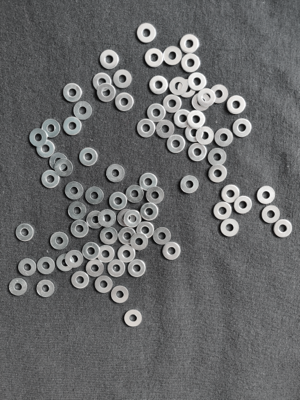circle: (61, 81, 82, 104), (137, 21, 157, 44), (162, 45, 183, 66), (114, 68, 134, 90), (9, 276, 29, 297), (64, 180, 85, 200), (106, 163, 126, 184), (73, 100, 93, 121), (179, 175, 200, 195), (49, 231, 69, 251), (196, 126, 216, 146), (233, 119, 253, 139), (256, 185, 276, 205), (274, 219, 294, 239), (15, 222, 34, 243), (99, 226, 120, 245), (153, 226, 172, 247), (79, 147, 98, 168), (97, 83, 116, 104), (99, 50, 120, 69), (145, 47, 164, 68), (55, 253, 74, 273), (67, 202, 87, 221), (93, 275, 113, 294), (123, 310, 143, 329), (41, 170, 60, 190), (41, 119, 61, 138), (115, 93, 134, 113), (166, 135, 185, 155), (174, 108, 193, 128), (185, 123, 204, 143), (188, 143, 207, 163), (188, 72, 208, 91), (215, 128, 234, 148), (208, 147, 227, 167), (212, 202, 232, 221), (220, 218, 239, 238), (261, 206, 281, 225), (35, 140, 56, 158), (234, 195, 252, 216), (17, 258, 36, 277), (86, 259, 105, 278), (86, 210, 105, 229), (86, 186, 105, 205), (109, 192, 128, 211), (140, 203, 159, 222), (126, 184, 145, 203), (55, 158, 74, 177), (28, 128, 47, 147), (63, 117, 82, 136), (137, 119, 156, 138), (149, 76, 168, 95), (156, 119, 175, 138), (180, 34, 199, 53), (209, 164, 228, 183), (110, 286, 130, 304), (117, 207, 135, 227), (146, 187, 166, 205), (163, 95, 183, 113), (170, 76, 188, 96), (211, 84, 229, 104), (227, 96, 247, 114), (222, 184, 240, 204), (178, 78, 195, 99), (71, 271, 89, 290), (70, 221, 89, 239), (99, 209, 117, 228), (118, 245, 136, 264), (119, 227, 137, 246), (162, 242, 181, 260), (49, 152, 67, 171), (147, 103, 165, 122), (182, 54, 200, 73), (37, 256, 54, 276), (192, 93, 212, 110), (37, 280, 55, 298), (128, 260, 146, 278), (124, 210, 142, 228), (92, 73, 110, 91), (189, 110, 207, 128), (199, 88, 216, 107), (83, 241, 99, 261), (66, 250, 83, 268), (108, 260, 125, 278), (131, 233, 148, 251), (140, 172, 157, 190), (137, 222, 154, 239), (97, 247, 115, 263)
